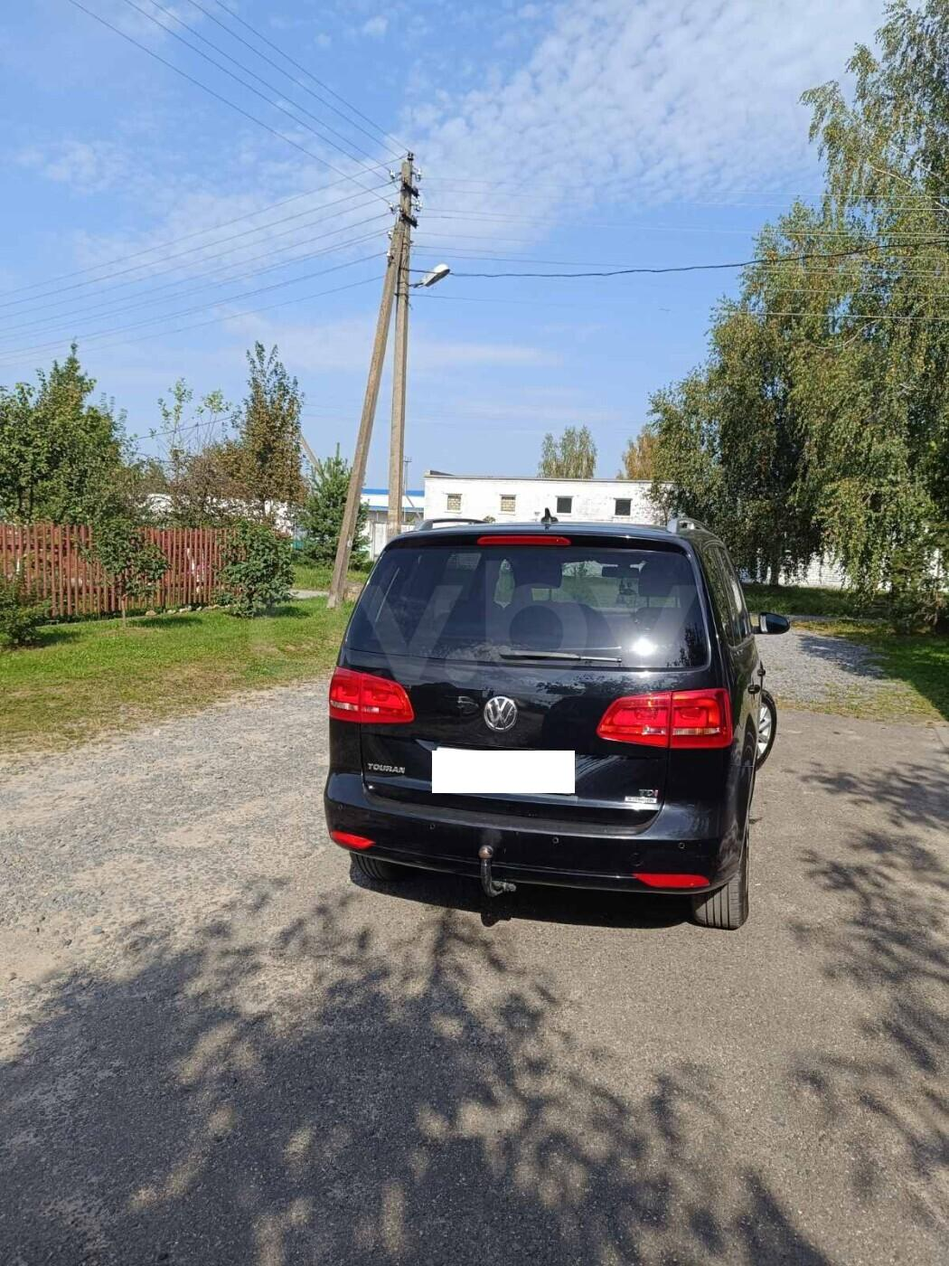Touran_2010-2015: (320, 512, 792, 928)
